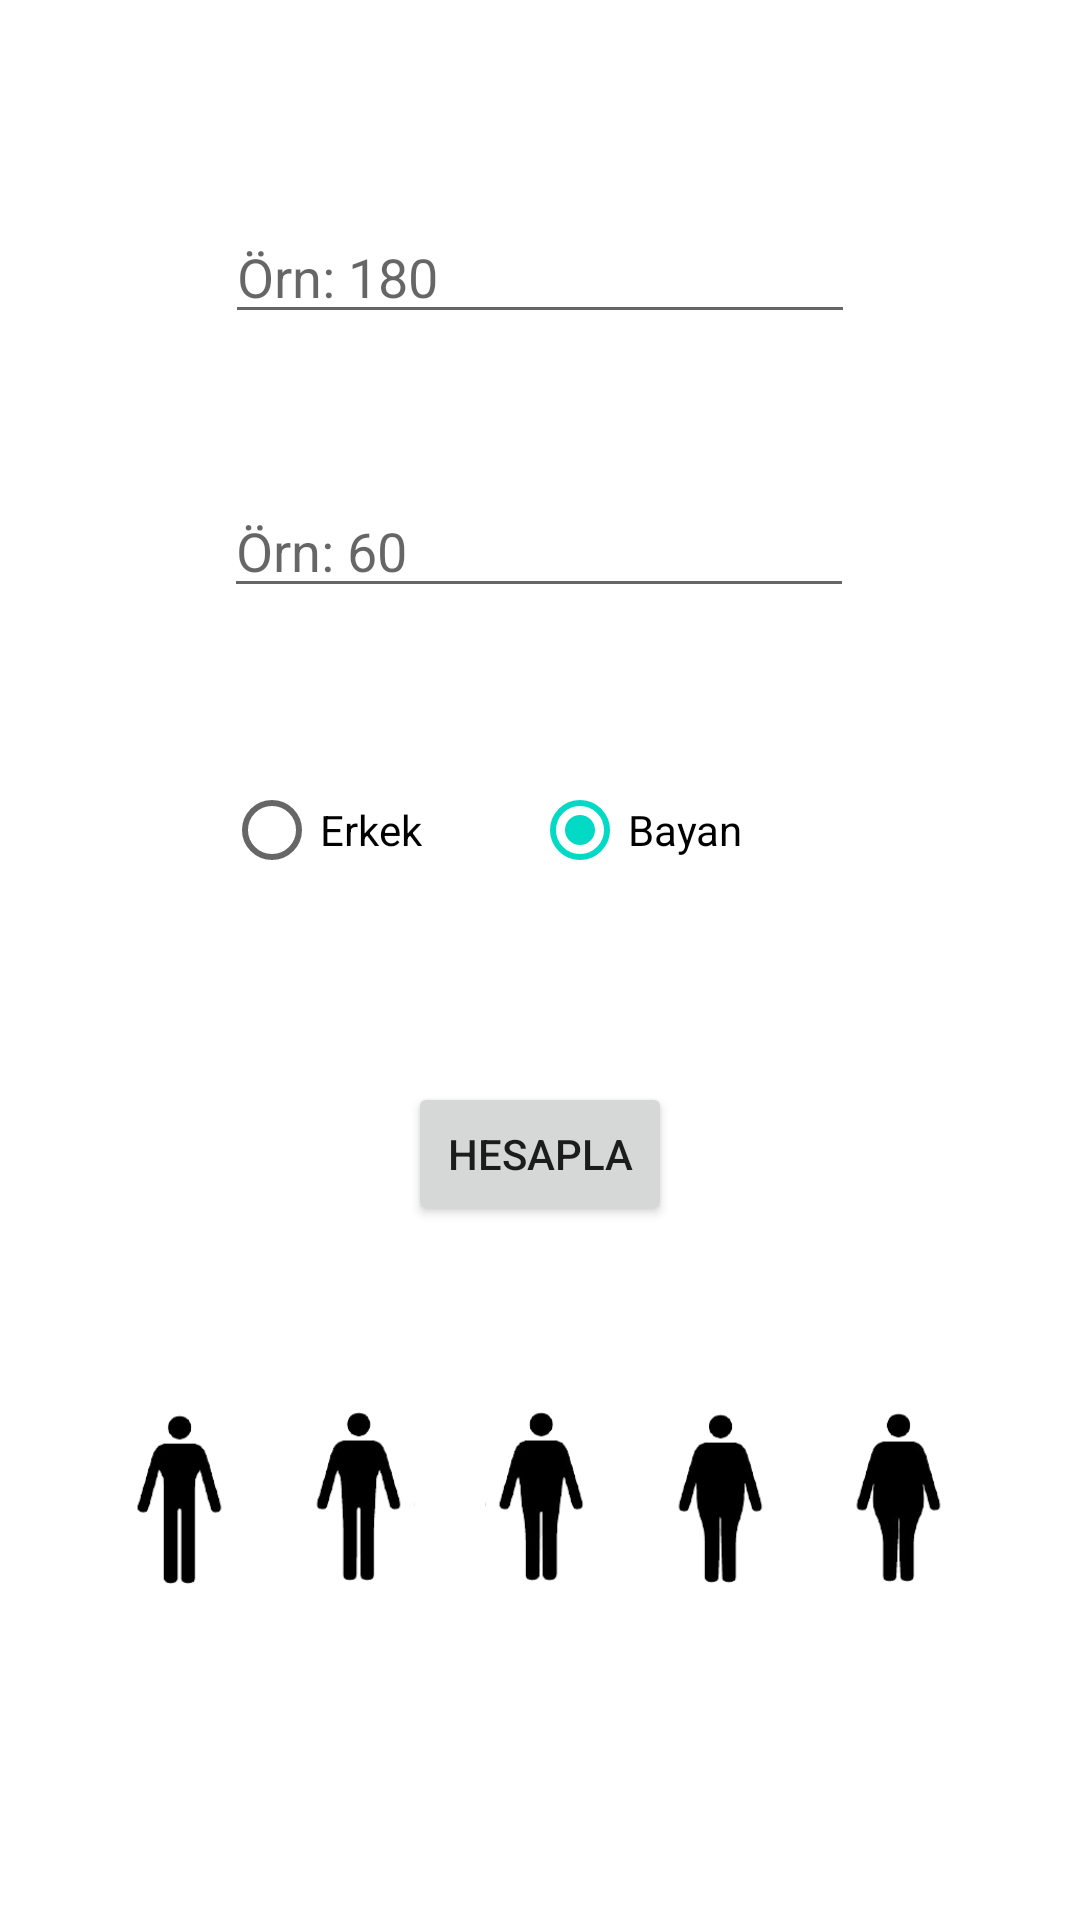

Screen size 1080px×1920px. Icon name, then its center in pixels as (x,y):
body: (358,1496), (534,1496)
body fat: (720,1498)
body ultra: (179,1499)
body ultra fat: (898,1497)
